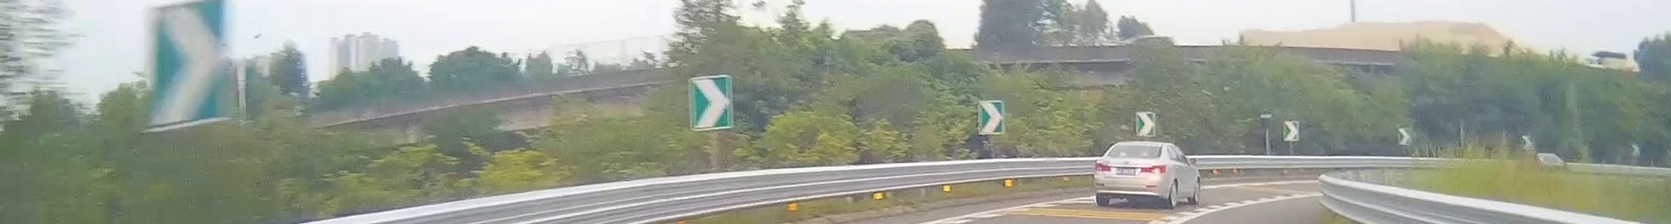L_light: (1096, 162, 1112, 172)
R_light: (1141, 164, 1166, 173)
T_light: (1126, 156, 1138, 159)
day-right: (1093, 140, 1168, 208)
